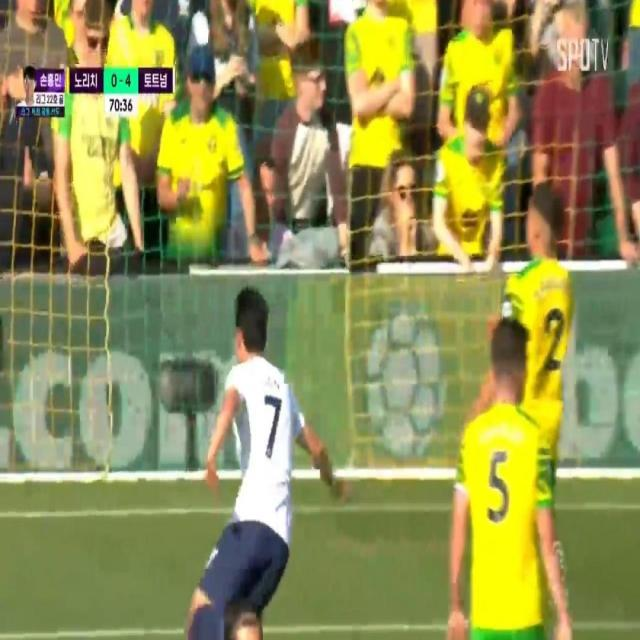player: (200, 283, 311, 640), (451, 313, 554, 640), (500, 181, 589, 471)
